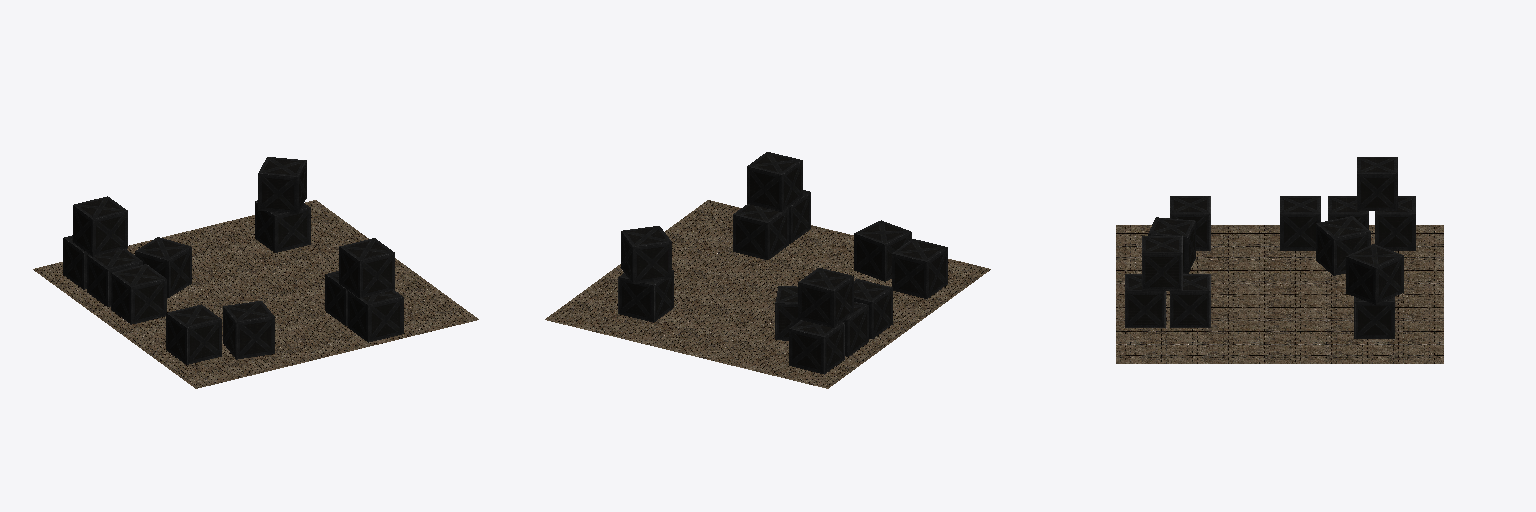
3 views of the same model, side by side, from view 1: azimuth 30°, elevation 25°; view 2: azimuth 150°, elevation 25°; view 3: azimuth 270°, elevation 25° (orthographic).
Visible parts, largest first — view 1: Plane, Cube.004_Cube.014, Cube.003_Cube.013, Cube.005_Cube.015, Cube.008_Cube.017, Cube.011_Cube.020, Cube.000_Cube.010, Cube.002_Cube.012, Cube.006, Cube.010_Cube.019, Cube.009_Cube.018, Cube.007_Cube.016 (+1 smaller); view 2: Plane, Cube.008_Cube.017, Cube.003_Cube.013, Cube.004_Cube.014, Cube.000_Cube.010, Cube.001_Cube.011, Cube.007_Cube.016, Cube.011_Cube.020, Cube.006, Cube.005_Cube.015, Cube.010_Cube.019, Cube.009_Cube.018 (+1 smaller); view 3: Plane, Cube.000_Cube.010, Cube.003_Cube.013, Cube.010_Cube.019, Cube.008_Cube.017, Cube.005_Cube.015, Cube.001_Cube.011, Cube.007_Cube.016, Cube.002_Cube.012, Cube.006, Cube.004_Cube.014, Cube.011_Cube.020 (+1 smaller).
Boxes of the visible parts, box(x1,y1,x2,y2) form: Plane: box(33, 200, 478, 388); Cube.004_Cube.014: box(166, 304, 221, 364); Cube.003_Cube.013: box(339, 238, 394, 297); Cube.005_Cube.015: box(111, 264, 166, 324); Cube.008_Cube.017: box(73, 196, 127, 256); Cube.011_Cube.020: box(223, 301, 274, 359); Cube.000_Cube.010: box(258, 157, 306, 213); Cube.002_Cube.012: box(348, 290, 403, 342); Cube.006: box(255, 200, 310, 252); Cube.010_Cube.019: box(135, 237, 191, 297); Cube.009_Cube.018: box(87, 249, 142, 306); Cube.007_Cube.016: box(63, 235, 89, 289); Plane: box(545, 200, 990, 388); Cube.008_Cube.017: box(798, 268, 853, 327); Cube.003_Cube.013: box(747, 152, 802, 211); Cube.004_Cube.014: box(892, 239, 947, 298); Cube.000_Cube.010: box(621, 226, 671, 283); Cube.001_Cube.011: box(733, 204, 788, 259); Cube.007_Cube.016: box(789, 320, 844, 374); Cube.011_Cube.020: box(854, 220, 911, 281); Cube.006: box(618, 270, 673, 322); Cube.005_Cube.015: box(854, 279, 892, 338); Cube.010_Cube.019: box(775, 286, 799, 340); Cube.009_Cube.018: box(843, 302, 868, 356); Plane: box(1116, 225, 1443, 363); Cube.000_Cube.010: box(1346, 244, 1403, 304); Cube.003_Cube.013: box(1142, 236, 1182, 290); Cube.010_Cube.019: box(1316, 216, 1370, 275); Cube.008_Cube.017: box(1357, 157, 1397, 210); Cube.005_Cube.015: box(1280, 196, 1320, 250); Cube.001_Cube.011: box(1170, 274, 1210, 327); Cube.007_Cube.016: box(1375, 196, 1415, 250); Cube.002_Cube.012: box(1125, 274, 1165, 327); Cube.006: box(1354, 297, 1394, 338); Cube.004_Cube.014: box(1170, 196, 1210, 250); Cube.011_Cube.020: box(1148, 217, 1195, 273).
Size of the model in its own units: 4.8 by 1.24 by 4.8.
Materials: 3 (2 with a texture image).